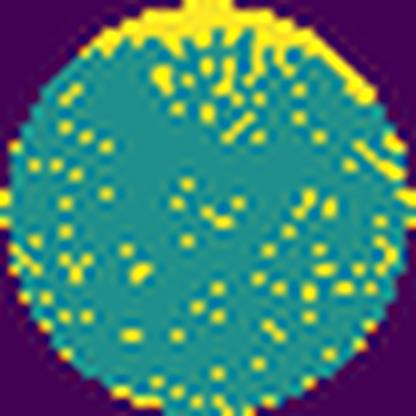Edge-Loc: (76, 0, 378, 110)
